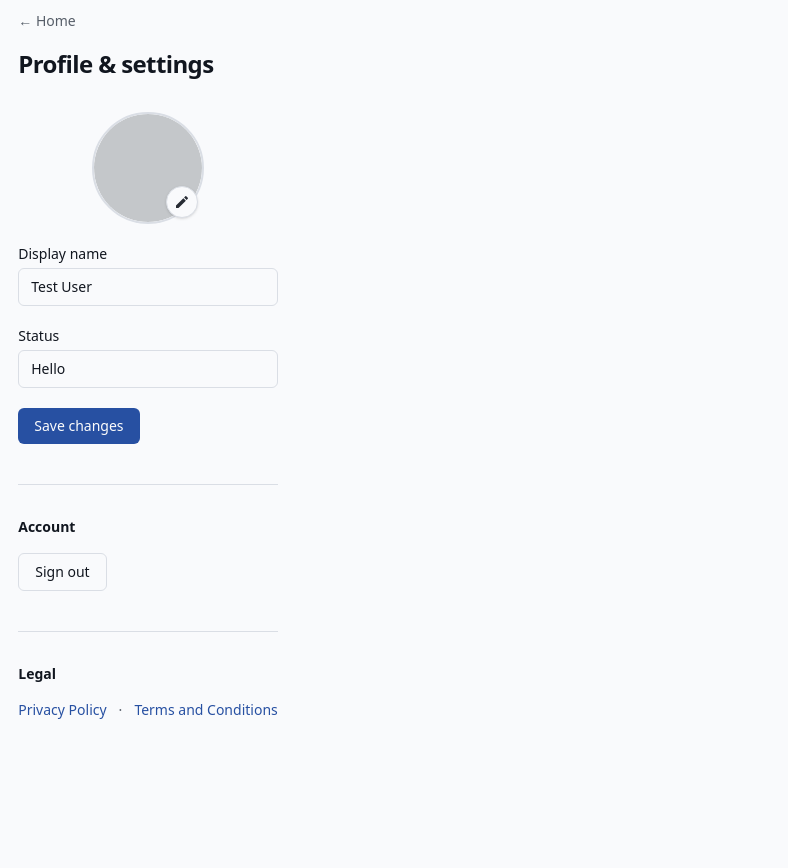
Test: MSW integration (server.use) › PATCH profile: shows message on 401 ErrorResponse
Replace the text in the field labelled "Display name" with "X" at point(148, 287), box [18,268,278,306]
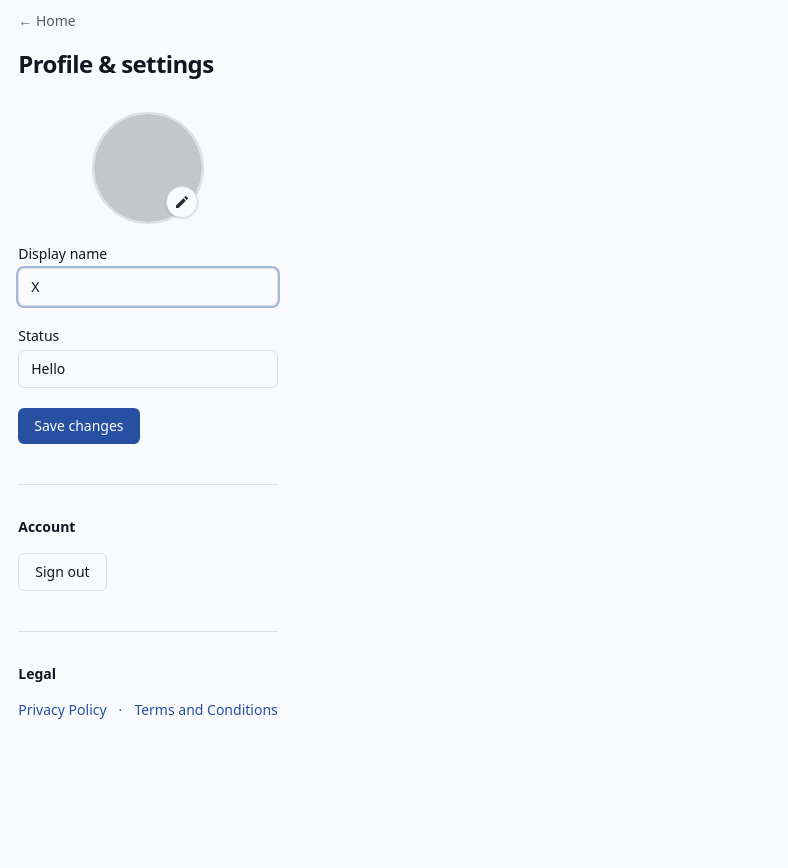
Click the button "Save changes" at point(79, 426), box [18,408,140,444]
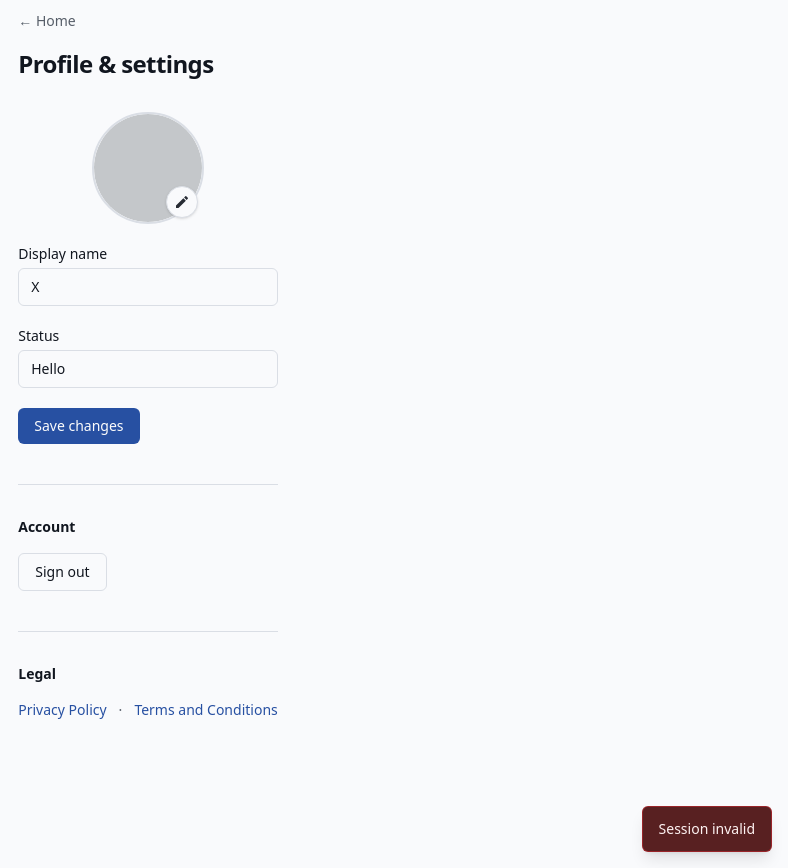
Check: the text "Session invalid" is shown, box [642,806,772,852]
